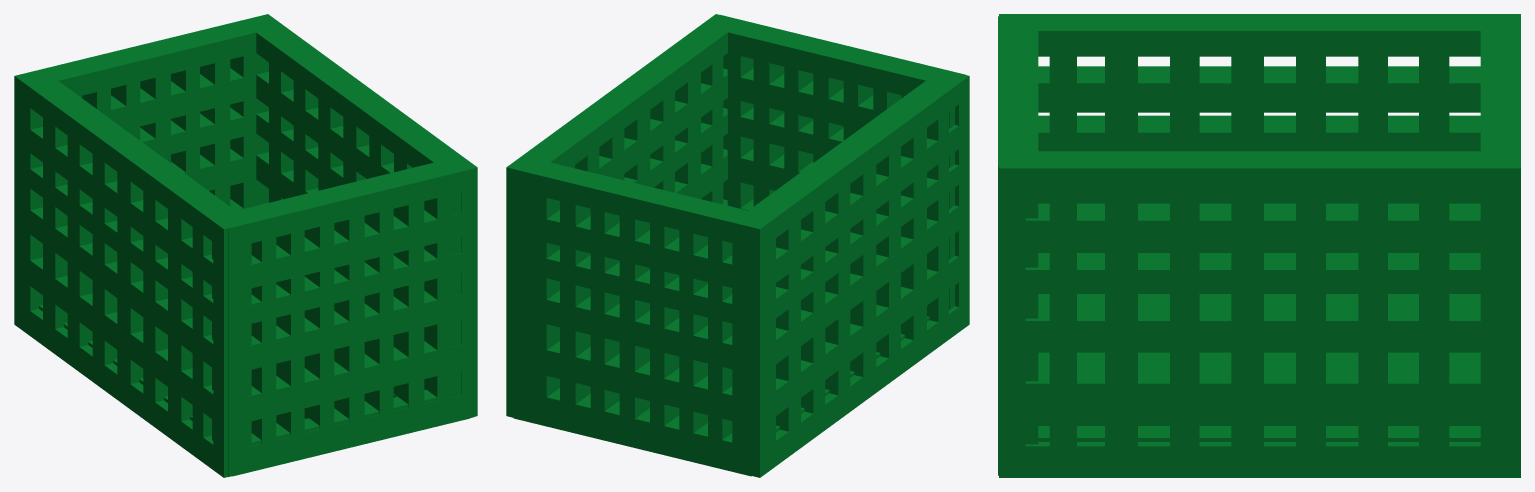
File: basket_no_handle.fbx
3 views of the same model, side by side, from view 1: azimuth 30°, elevation 25°; view 2: azimuth 150°, elevation 25°; view 3: azimuth 270°, elevation 25° (orthographic). The views are drawn at different scales.
Visible parts, largest first — view 1: pasted__Trolly_sides3, pasted__Trolly_sides1, pasted__Trolly_sides, pasted__Trolly_sides2, Trolly_sides; view 2: pasted__Trolly_sides1, pasted__Trolly_sides2, pasted__Trolly_sides, pasted__Trolly_sides3, Trolly_sides; view 3: pasted__Trolly_sides, pasted__Trolly_sides1, Trolly_sides, pasted__Trolly_sides3, pasted__Trolly_sides2.
Boxes of the visible parts, x1=… form: pasted__Trolly_sides3: x1=212, y1=157, x2=474, y2=476; pasted__Trolly_sides1: x1=14, y1=69, x2=251, y2=477; pasted__Trolly_sides: x1=240, y1=14, x2=477, y2=416; pasted__Trolly_sides2: x1=19, y1=15, x2=279, y2=309; Trolly_sides: x1=39, y1=305, x2=469, y2=476; pasted__Trolly_sides1: x1=732, y1=69, x2=969, y2=477; pasted__Trolly_sides2: x1=510, y1=156, x2=770, y2=476; pasted__Trolly_sides: x1=506, y1=14, x2=743, y2=422; pasted__Trolly_sides3: x1=706, y1=15, x2=965, y2=309; Trolly_sides: x1=513, y1=316, x2=929, y2=476; pasted__Trolly_sides: x1=999, y1=151, x2=1520, y2=477; pasted__Trolly_sides1: x1=999, y1=14, x2=1520, y2=252; Trolly_sides: x1=1038, y1=294, x2=1480, y2=441; pasted__Trolly_sides3: x1=998, y1=16, x2=1038, y2=475; pasted__Trolly_sides2: x1=1480, y1=16, x2=1520, y2=165.
Size of the model in its own units: 9.11 by 8.56 by 13.05.
